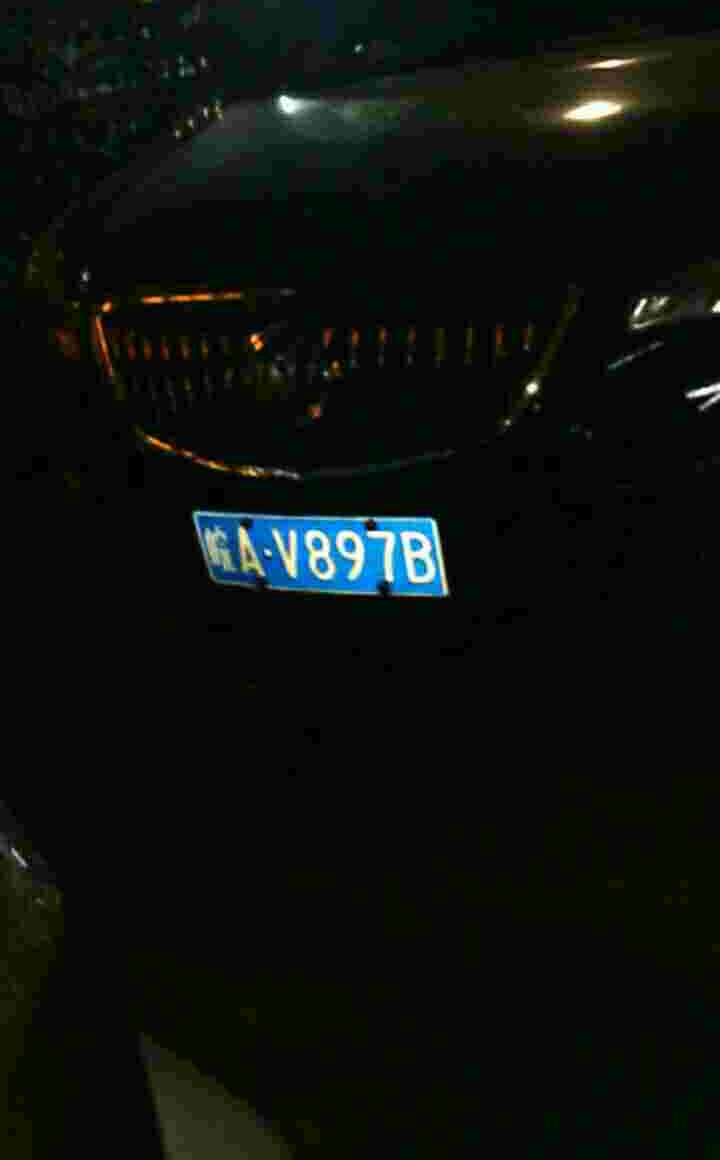license_plate: (211, 510, 433, 604)
